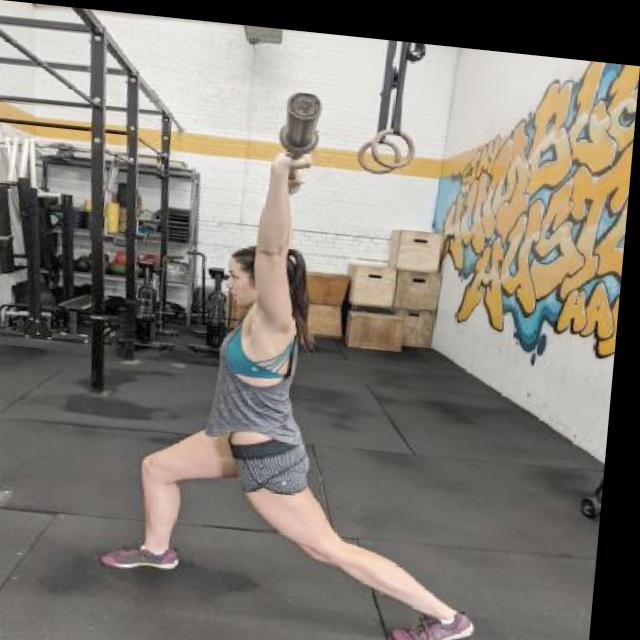barbell: (276, 83, 331, 154)
